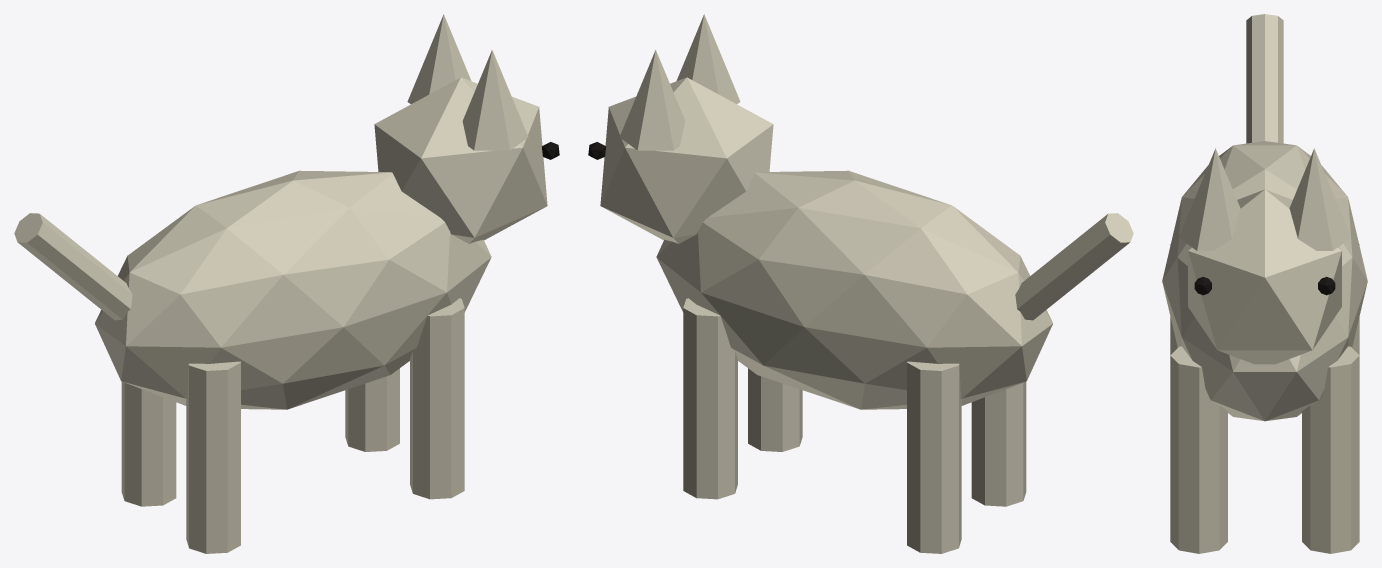
Rendered from oveja.obj.
3 renders of one model, left to right at view 1: azimuth 30°, elevation 25°; view 2: azimuth 150°, elevation 25°; view 3: azimuth 270°, elevation 25°, orthographic.
Parts seen in each view (by area): view 1: oveja; view 2: oveja; view 3: oveja.
Part boxes in pixels (left/top/right/bottom): oveja: left=14, top=14, right=559, bottom=553; oveja: left=588, top=14, right=1133, bottom=553; oveja: left=1162, top=14, right=1367, bottom=553.
Bounding box in the file's own units: 1.72 × 1.31 × 0.575.
